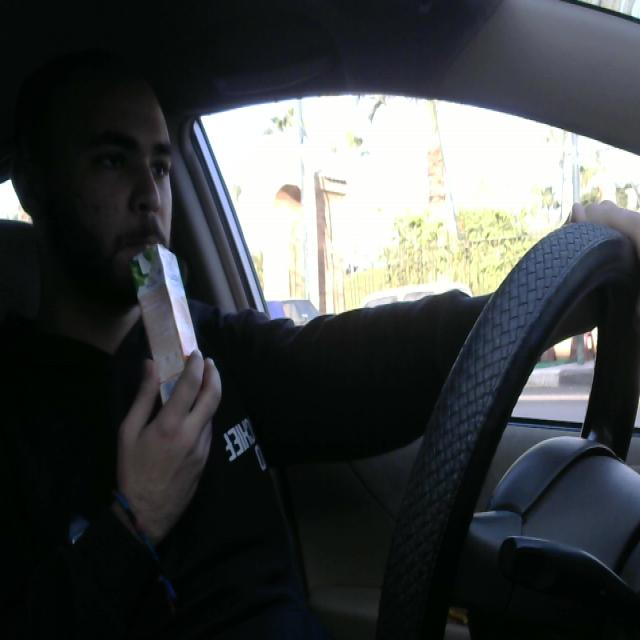drinking: (127, 225, 212, 425)
